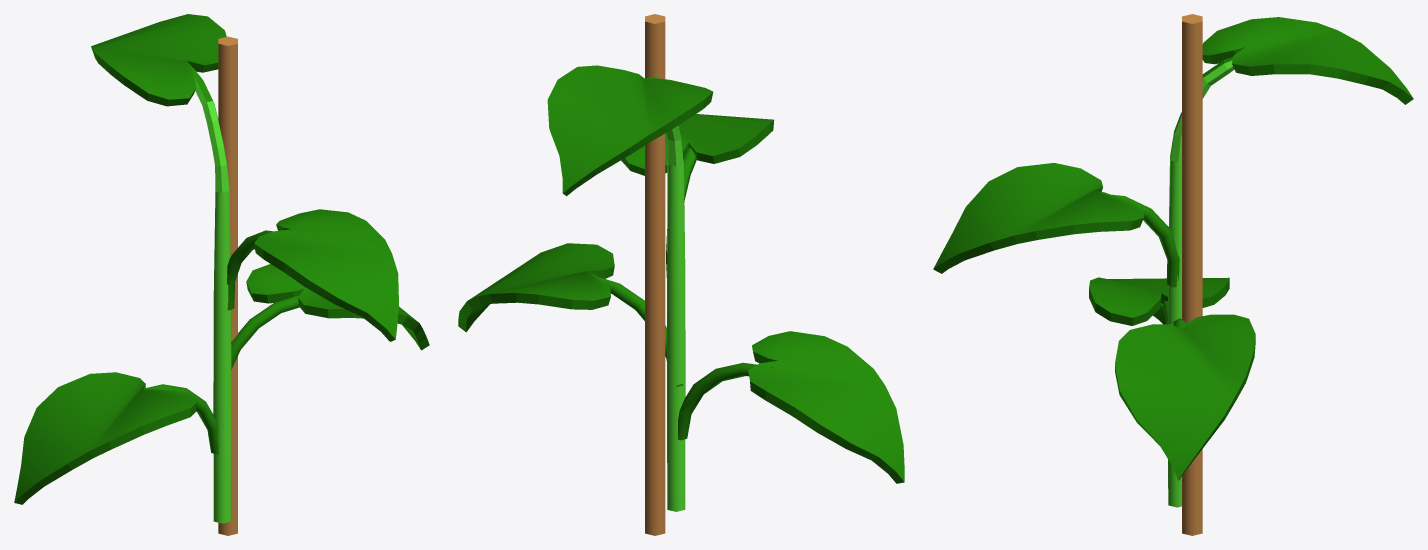
File: 小黃瓜成長2.FBX
The picture shows the model from 3 angles, left to right: view 1: azimuth 30°, elevation 25°; view 2: azimuth 150°, elevation 25°; view 3: azimuth 270°, elevation 25°; orthographic projection. The views are drawn at different scales.
Parts seen in each view (by area): view 1: Cylinder001; view 2: Cylinder001; view 3: Cylinder001.
Boxes of the visible parts, bbox=[...] form: Cylinder001: bbox=[14, 14, 429, 535]; Cylinder001: bbox=[458, 14, 904, 535]; Cylinder001: bbox=[933, 14, 1413, 535].
Size of the model in its own units: 95.09 by 106 by 89.92.
1 material, 1 textured.
